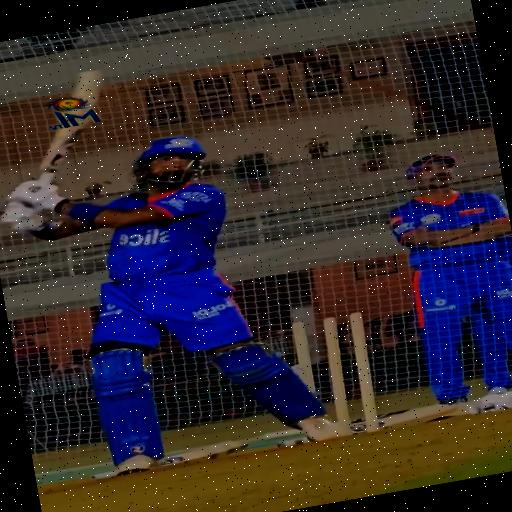Cricket bat: (40, 119, 88, 182), (73, 69, 103, 111), (66, 107, 82, 114)
